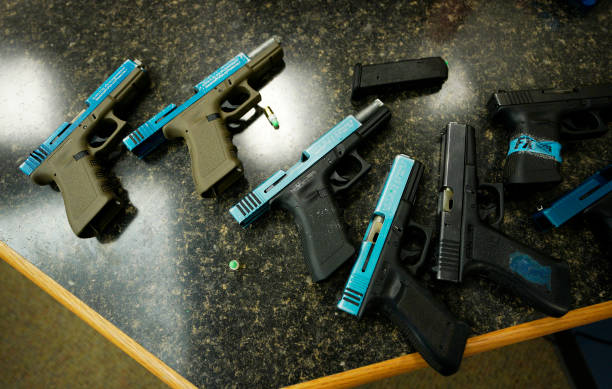pistol: (435, 117, 573, 321), (346, 151, 464, 373), (127, 32, 288, 183), (230, 104, 370, 276), (17, 57, 143, 243), (485, 87, 612, 193)
